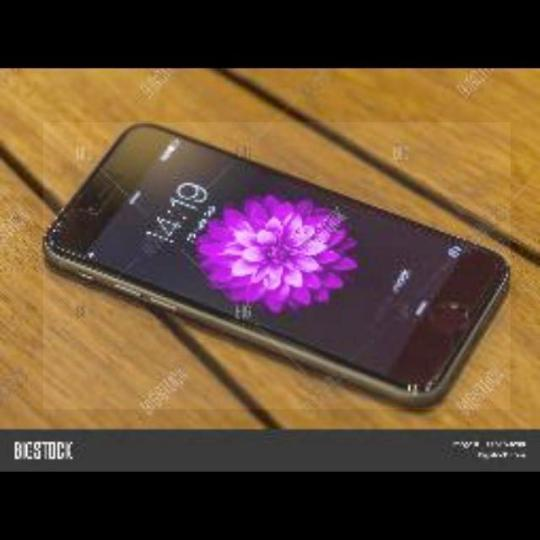phone: (31, 107, 516, 398)
